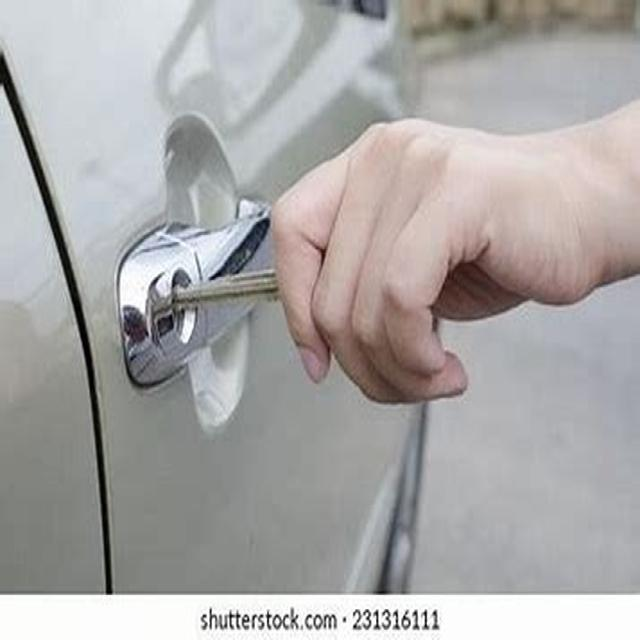key: (160, 228, 311, 336)
